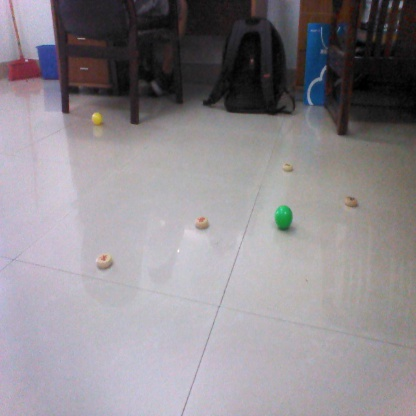ball: (273, 205, 298, 230), (91, 110, 105, 126)
chess: (94, 250, 118, 269), (341, 193, 361, 210), (193, 216, 214, 231), (279, 161, 296, 173)
